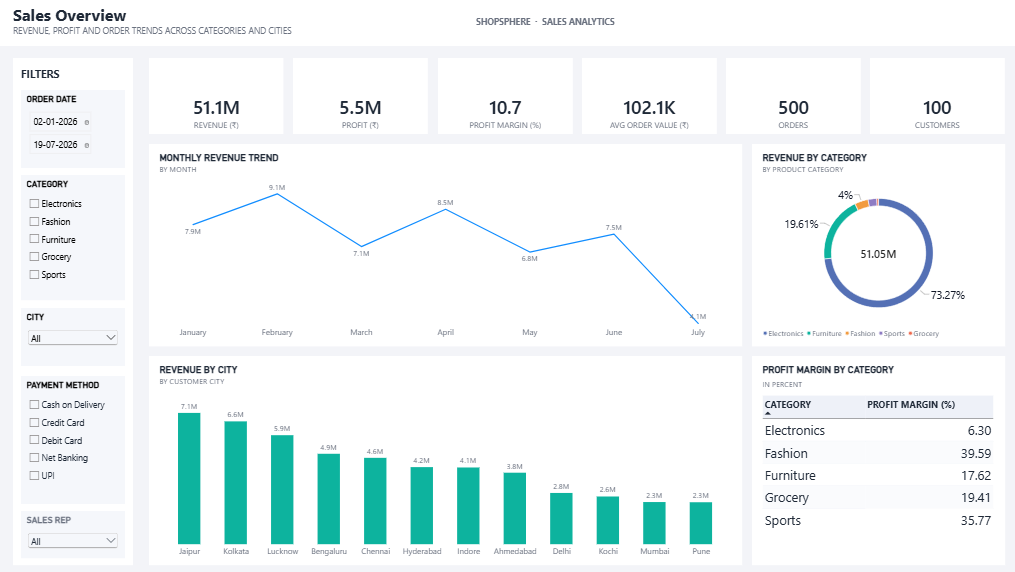

The dashboard page shown, as its layout file describes it:
{"tool":"powerbi","page":{"name":"Overview","canvas":[2560,1440],"ordinal":0},"visuals":[{"type":"card","fields":{"Values":["Sum(shopsphere order_details.sales_amount)"]},"box":[380,150,336,190],"z":0},{"type":"textbox","box":[0,0,2560,120],"z":1000},{"type":"textbox","box":[40,150,300,1267.5],"z":2000},{"type":"card","fields":{"Values":["Sum(shopsphere order_details.profit)"]},"box":[740.7,150,336.7,190],"z":3000},{"type":"card","fields":{"Values":["Count(shopsphere order_details.order_id)"]},"box":[1822.7,150,336.7,190],"z":4000},{"type":"card","fields":{"Values":["Count(shopsphere orders.customer_id)"]},"box":[2183.3,150,336.7,190],"z":5000},{"type":"lineChart","title":"MONTHLY REVENUE TREND","fields":{"Category":["shopsphere orders.order_date.Variation.Date Hierarchy.Month"],"Y":["Sum(shopsphere order_details.sales_amount)"]},"box":[380,364,1483.2,506],"z":6000},{"type":"columnChart","title":"REVENUE BY CITY","fields":{"Category":["shopsphere customers.city"],"Y":["Sum(shopsphere order_details.sales_amount)"]},"box":[380,895,1482.5,522.5],"z":7000},{"type":"card","fields":{"Values":["shopsphere order_details.AOV"]},"box":[1462,150,336.7,190],"z":8000},{"type":"donutChart","title":"REVENUE BY CATEGORY","fields":{"Category":["shopsphere products.category"],"Y":["Sum(shopsphere order_details.sales_amount)"]},"box":[1887.2,364,632.8,506],"z":9000},{"type":"card","fields":{"Values":["shopsphere order_details.Profit Margin"]},"box":[1101.3,150,336.7,190],"z":10000},{"type":"tableEx","title":"PROFIT MARGIN BY CATEGORY","fields":{"Values":["shopsphere products.category","shopsphere order_details.Profit Margin"]},"box":[1887.5,895,632.5,522.5],"z":11000},{"type":"slicer","title":"ORDER DATE","fields":{"Values":["shopsphere orders.order_date"]},"box":[60,230,260,195],"z":12000},{"type":"slicer","title":"CATEGORY","fields":{"Values":["shopsphere products.category"]},"box":[60,442.5,260,312.5],"z":13000},{"type":"slicer","title":"CITY","fields":{"Values":["shopsphere customers.city"]},"box":[60,775,260,145],"z":14000},{"type":"slicer","title":"PAYMENT METHOD","fields":{"Values":["shopsphere orders.payment_method"]},"box":[60,945,260,320],"z":15000},{"type":"slicer","title":"SALES REP","fields":{"Values":["shopsphere sales_reps.sales_rep_name"]},"box":[60,1282.5,260,117.5],"z":16000},{"type":"textbox","box":[40,16,1128,96],"z":17000},{"type":"textbox","box":[1197.5,45,365,42.5],"z":18000},{"type":"textbox","box":[60,170,260,44],"z":19000}]}

Visuals, with their boxes in screenshot pixels (x1, y1, x2, y2), scaled from the page's 2560x1440 canvas onto the 1015x572 screenshot:
card - Sum(shopsphere order_details.sales_amount): l=151, t=60, r=284, b=135
textbox: l=0, t=0, r=1014, b=48
textbox: l=16, t=60, r=135, b=563
card - Sum(shopsphere order_details.profit): l=294, t=60, r=427, b=135
card - Count(shopsphere order_details.order_id): l=723, t=60, r=856, b=135
card - Count(shopsphere orders.customer_id): l=866, t=60, r=999, b=135
"MONTHLY REVENUE TREND" lineChart: l=151, t=145, r=739, b=346
"REVENUE BY CITY" columnChart: l=151, t=356, r=738, b=563
card - shopsphere order_details.AOV: l=580, t=60, r=713, b=135
"REVENUE BY CATEGORY" donutChart: l=748, t=145, r=999, b=346
card - shopsphere order_details.Profit Margin: l=437, t=60, r=570, b=135
"PROFIT MARGIN BY CATEGORY" tableEx: l=748, t=356, r=999, b=563
"ORDER DATE" slicer: l=24, t=91, r=127, b=169
"CATEGORY" slicer: l=24, t=176, r=127, b=300
"CITY" slicer: l=24, t=308, r=127, b=365
"PAYMENT METHOD" slicer: l=24, t=375, r=127, b=502
"SALES REP" slicer: l=24, t=509, r=127, b=556
textbox: l=16, t=6, r=463, b=44
textbox: l=475, t=18, r=620, b=35
textbox: l=24, t=68, r=127, b=85
